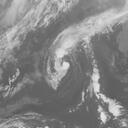cyclone: (41, 42, 77, 91)
